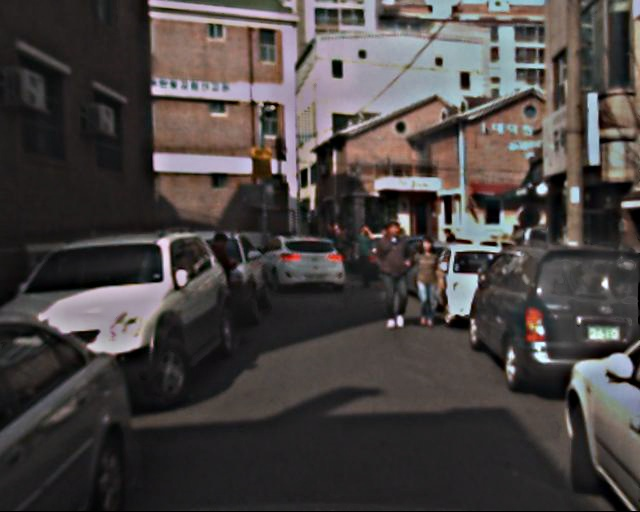person: (374, 222, 418, 329), (202, 229, 246, 336), (408, 236, 446, 328), (353, 225, 378, 286), (325, 220, 357, 249)
